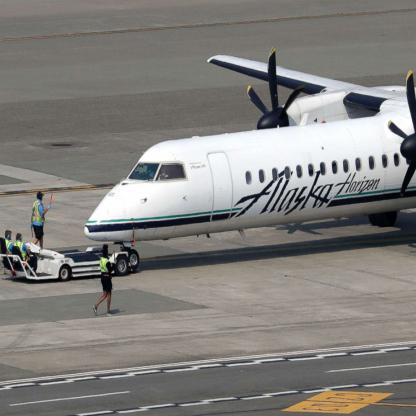CIV_Plane: (80, 41, 415, 272)
